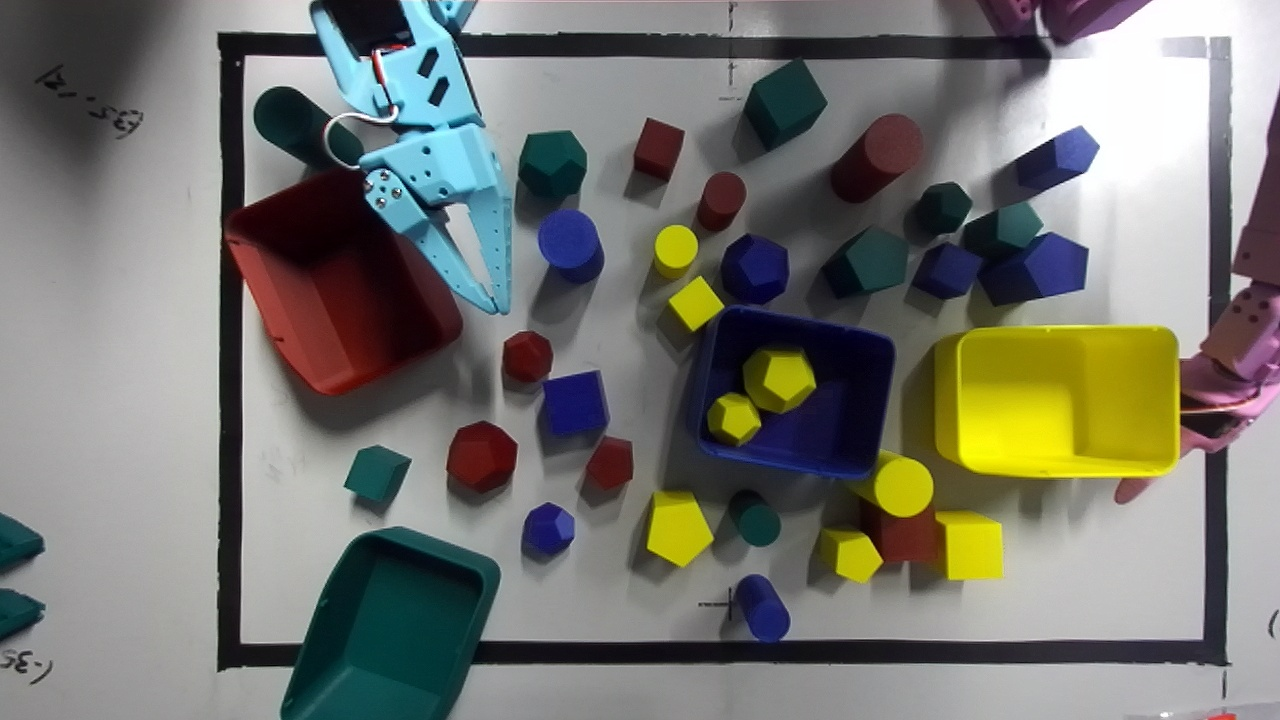bin: (225, 168, 462, 394), (281, 528, 499, 719), (685, 305, 903, 479), (934, 325, 1179, 478)
cube: (744, 59, 827, 151), (860, 466, 936, 562), (936, 510, 1002, 580), (543, 370, 609, 436), (911, 243, 981, 299), (344, 445, 411, 503), (634, 117, 684, 180), (668, 276, 724, 331)
cylinder: (253, 86, 370, 169), (831, 114, 923, 202), (848, 450, 933, 517), (537, 209, 603, 283), (733, 574, 790, 642), (696, 172, 746, 231), (728, 490, 780, 546), (654, 225, 697, 279)
dodecahedron: (446, 421, 517, 492), (721, 233, 789, 304), (518, 130, 586, 199), (743, 349, 815, 412), (915, 182, 972, 234), (707, 392, 760, 445), (522, 502, 574, 556), (502, 330, 552, 382)
hexagonal: (979, 232, 1088, 305), (822, 226, 908, 297), (1014, 127, 1099, 191), (646, 491, 713, 566), (962, 202, 1042, 259), (816, 527, 882, 582), (585, 435, 632, 490)
